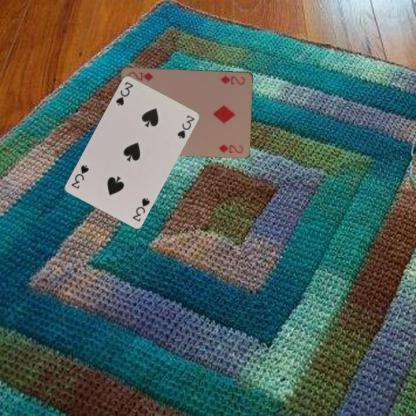2d: (218, 72, 247, 86)
3s: (130, 195, 152, 223), (113, 78, 134, 107)
